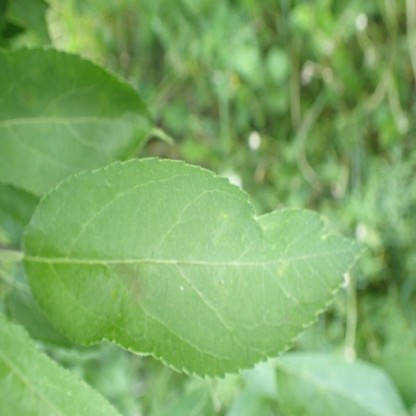scab: (115, 261, 147, 302), (275, 262, 290, 276), (284, 312, 290, 323)
